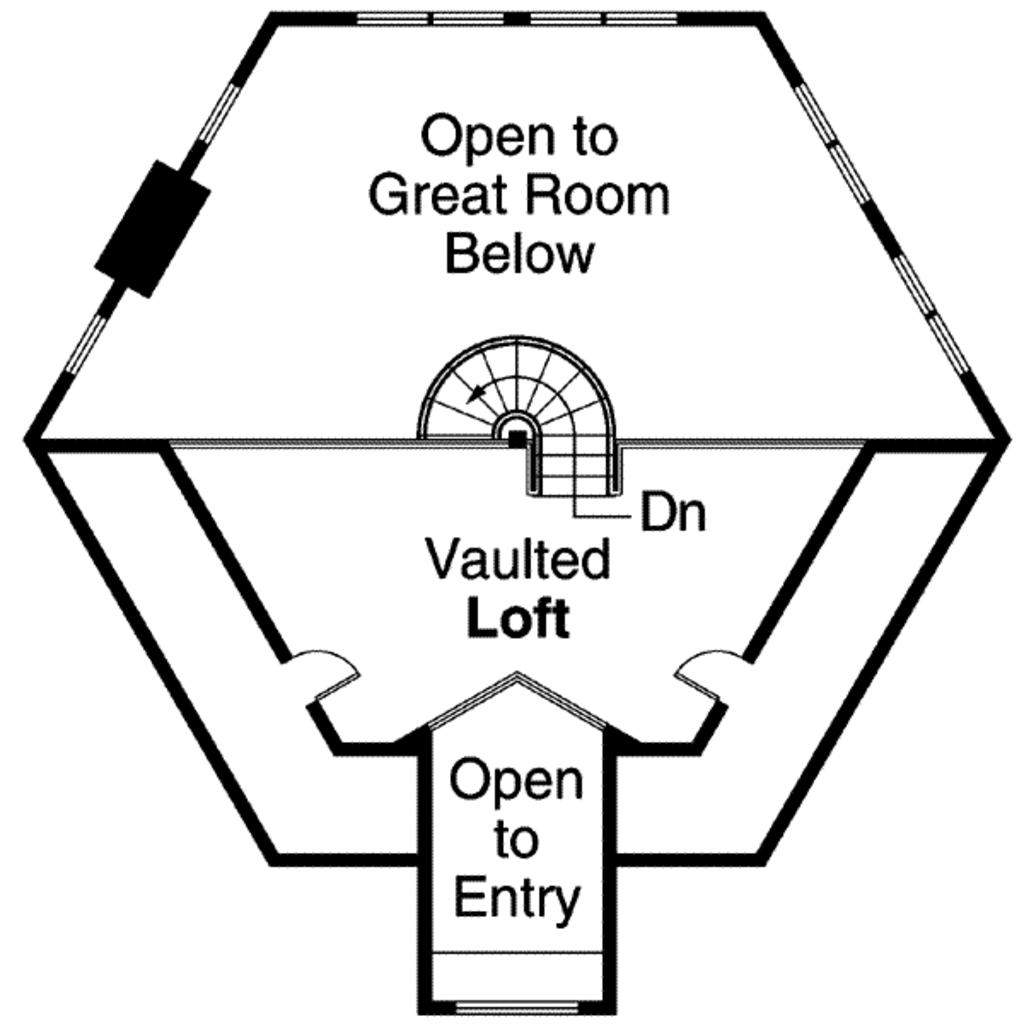door: (653, 633, 761, 714), (280, 636, 358, 717)
stairs: (406, 311, 653, 533)
window: (788, 77, 877, 225), (895, 247, 978, 377), (459, 986, 591, 1024), (61, 309, 114, 388), (361, 1, 503, 28), (531, 5, 680, 28), (195, 83, 242, 147)
